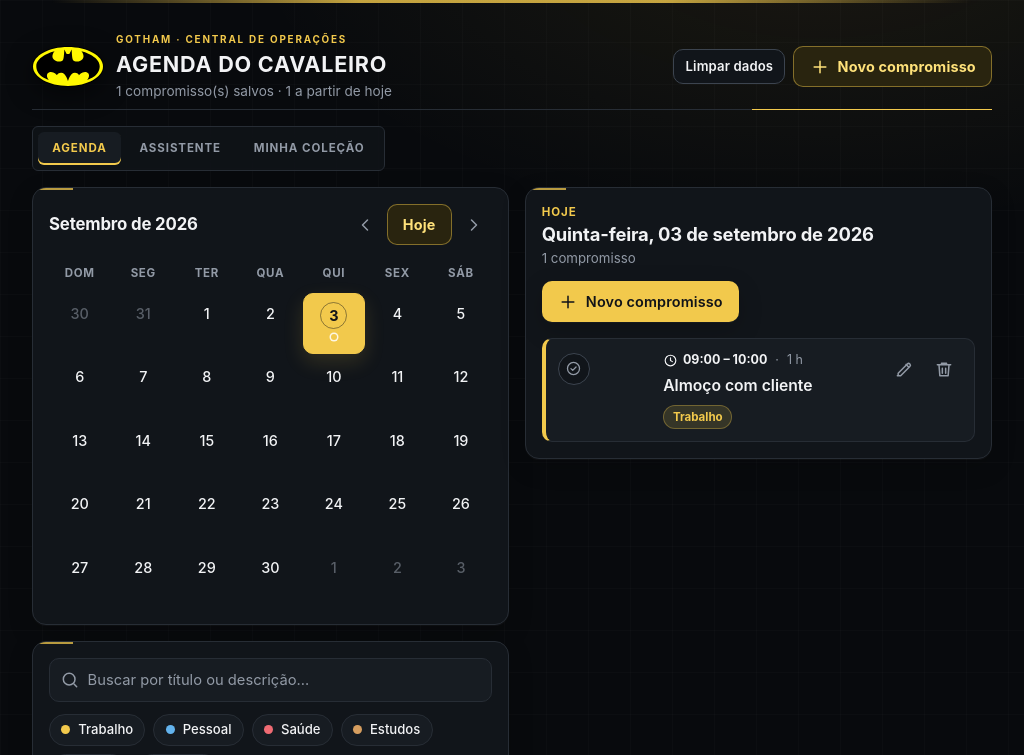
conclusão de compromissos › marca pelo cartão, aplica distinção visual e persiste
The image size is (1024, 755).
What coordinates should you click on to do the following:
click the button named "marcar como concluído"
I would click on:
 (574, 369)
Its box is [558,353,590,385].
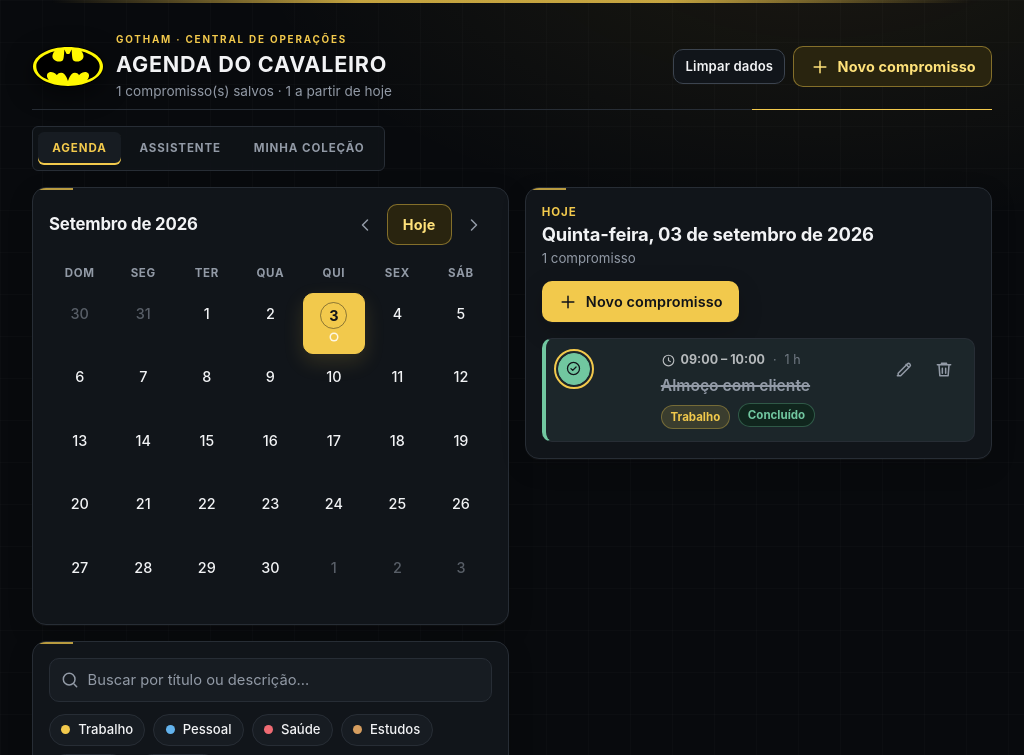
Now the text "Concluído" is shown, box [738,403,815,427]
